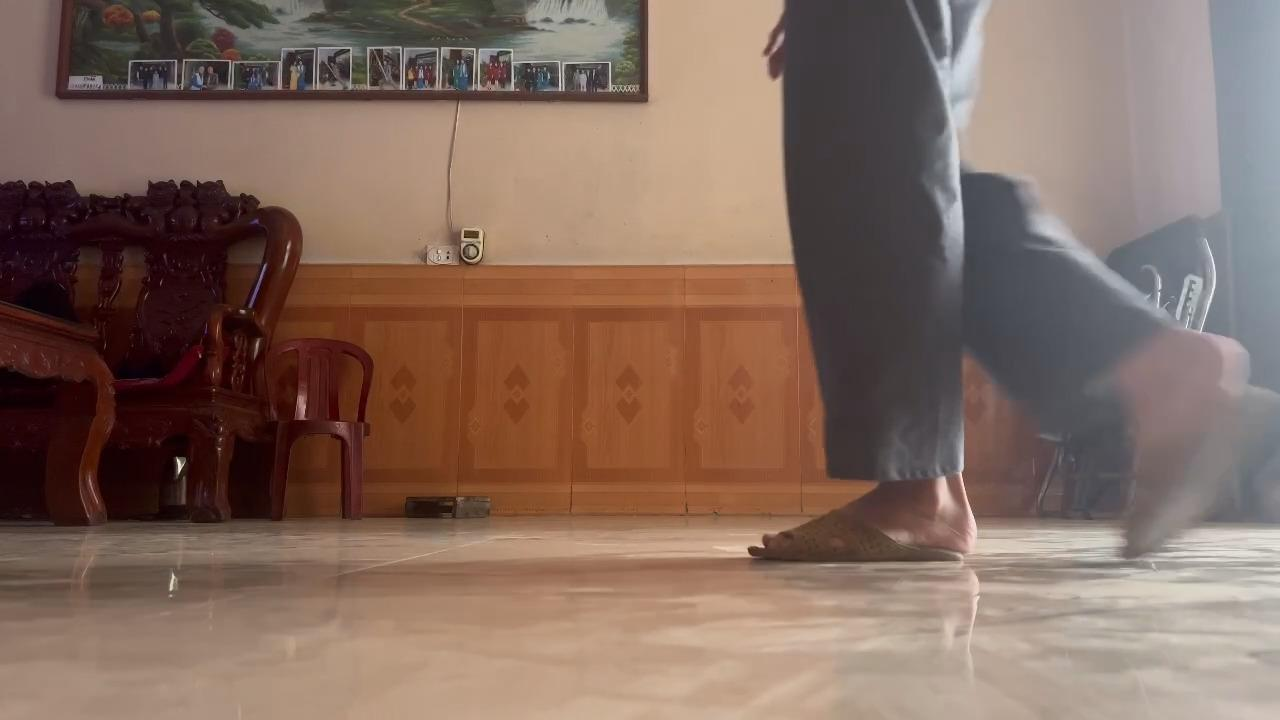no-boot: (1109, 327, 1277, 565), (737, 482, 983, 570)
